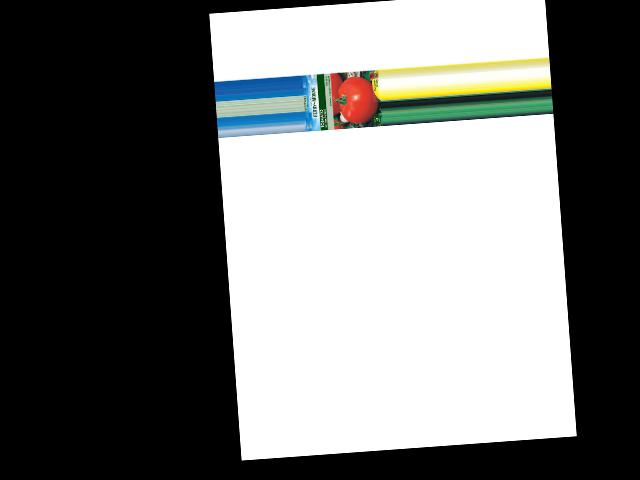tomato: (337, 75, 380, 124)
